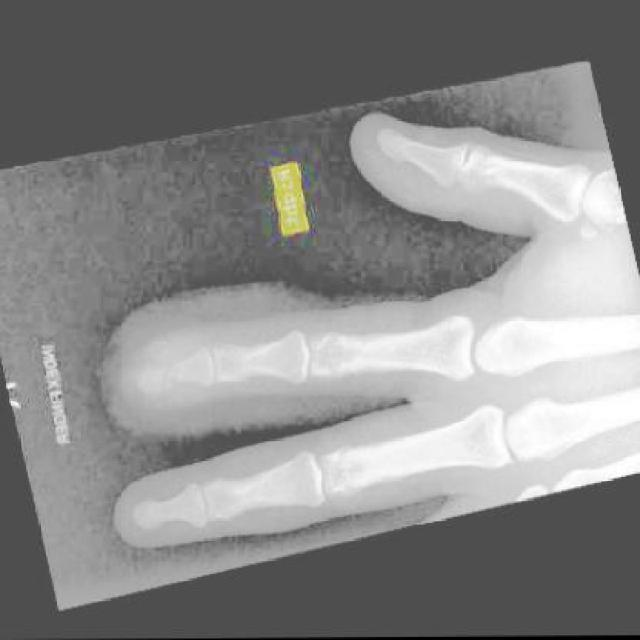Fracture: (154, 357, 187, 391)
